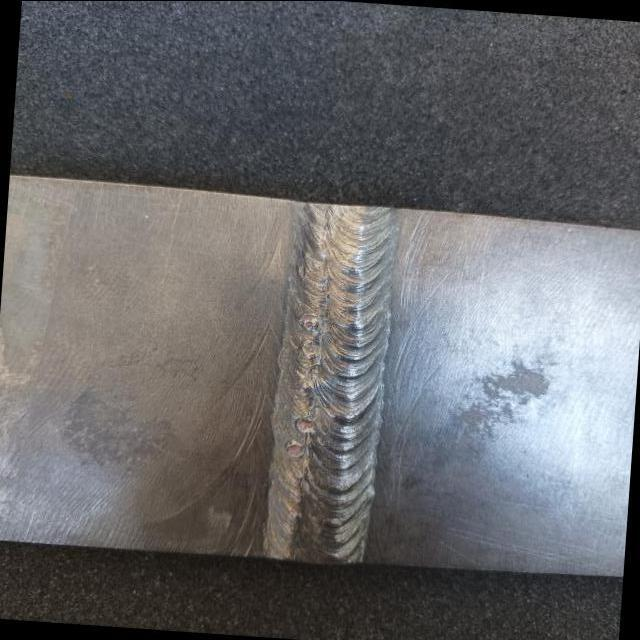defect: (297, 339, 323, 356), (296, 315, 321, 332), (284, 442, 307, 459), (294, 417, 315, 434), (298, 385, 310, 394)
